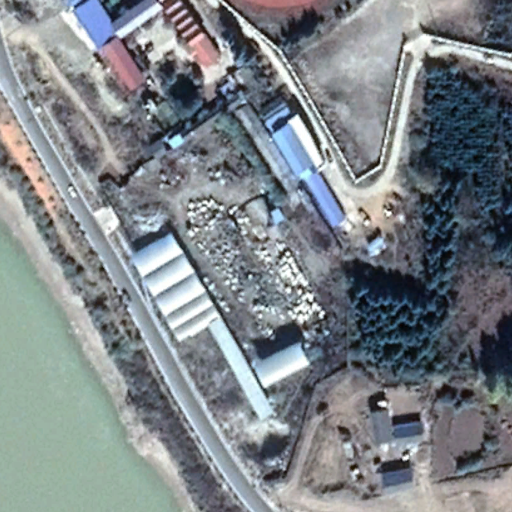msw: (187, 184, 325, 335)
